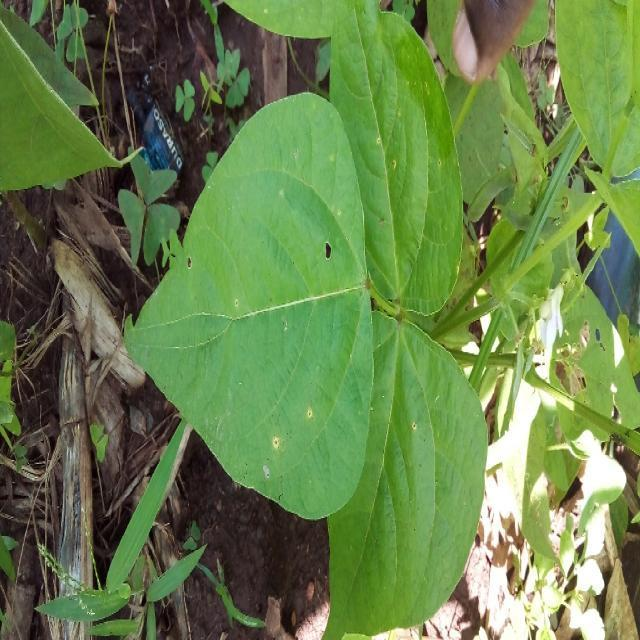embun tepung: (150, 304, 365, 361)
hawar: (223, 387, 356, 479), (356, 124, 464, 231)
mozaik: (367, 349, 463, 611), (313, 227, 348, 278), (184, 244, 214, 287)
sehat: (4, 77, 75, 171)
